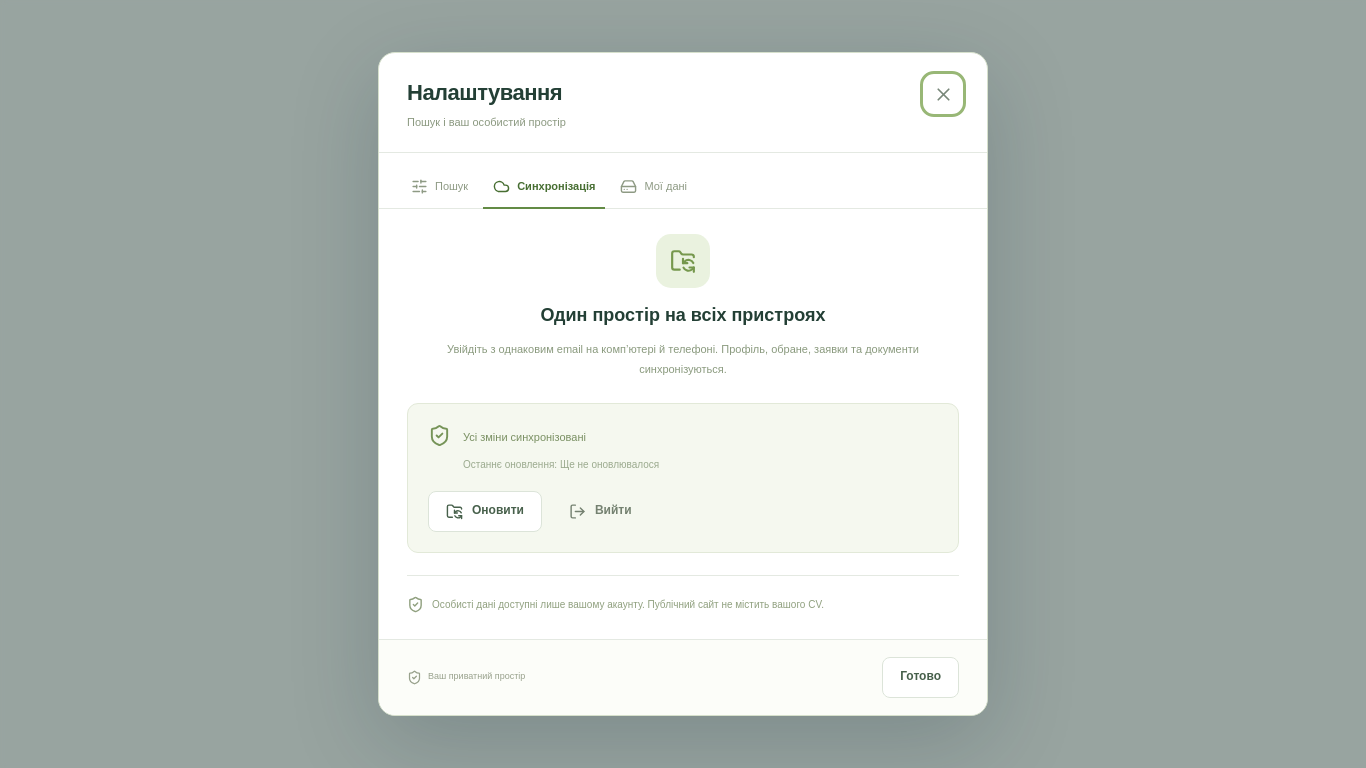
Test: sign-out and the local copy › asks again when the stored copy turns out to be unsynced
Click the button "Вийти". click: point(600, 511)
box: [551,491,650,532]
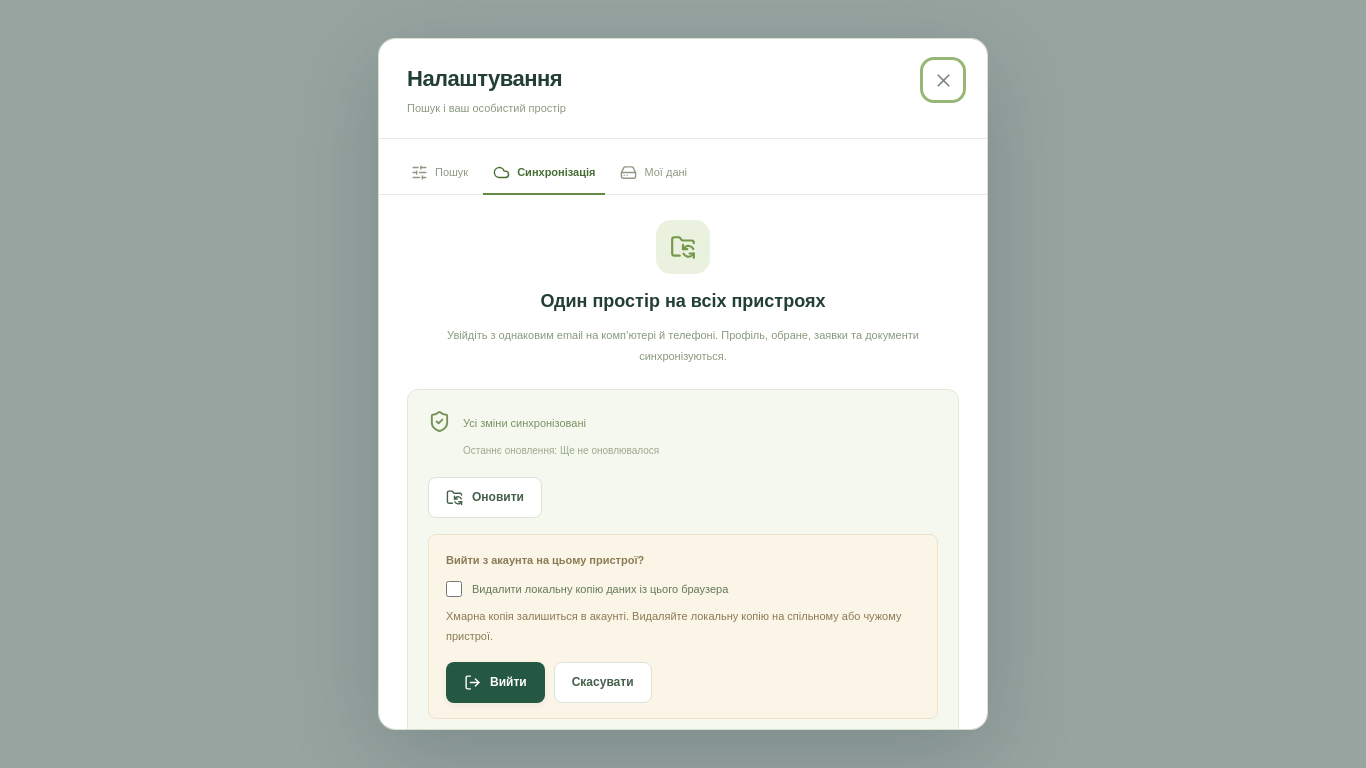
Click the checkbox labelled "Видалити локальну копію даних із цього браузера". click: point(454, 589)
box: [446,581,462,597]
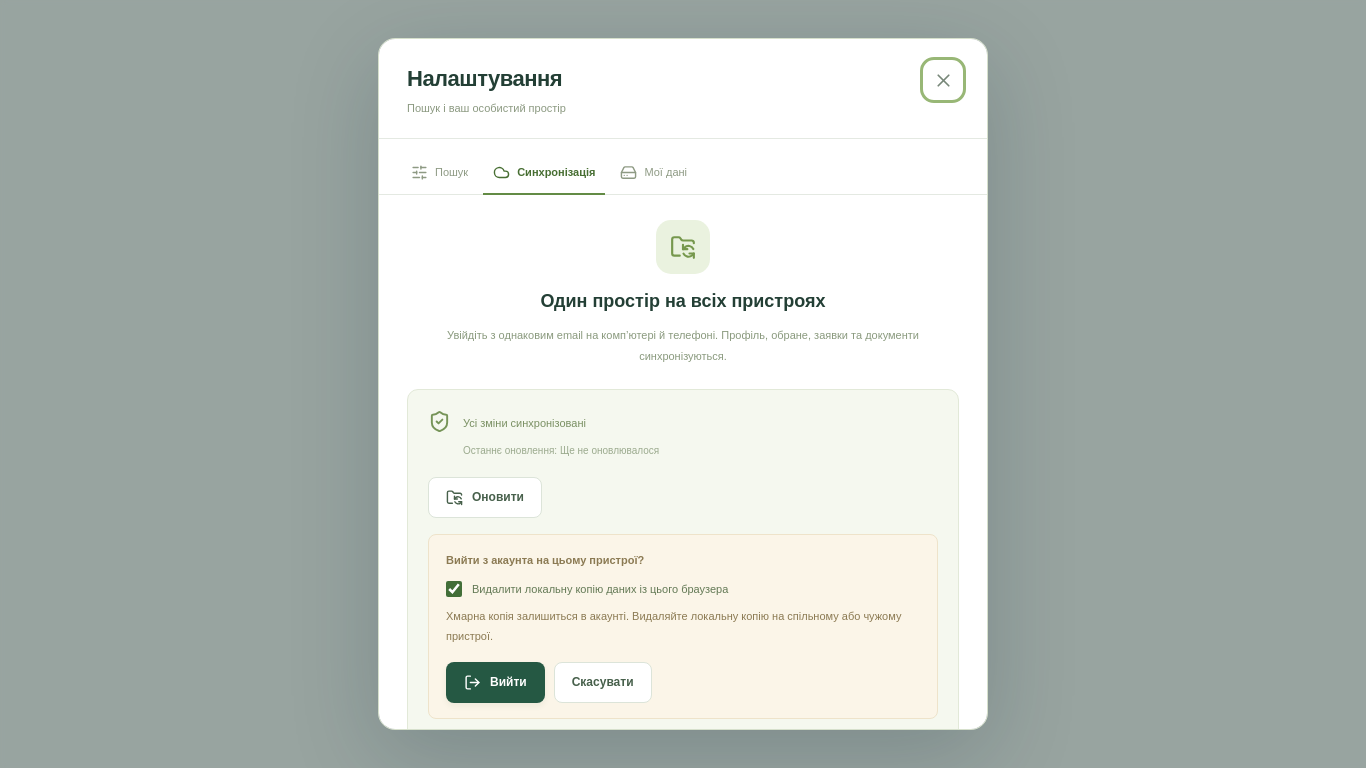
Click the button "Вийти". click: point(495, 683)
box: [446,662,545,703]
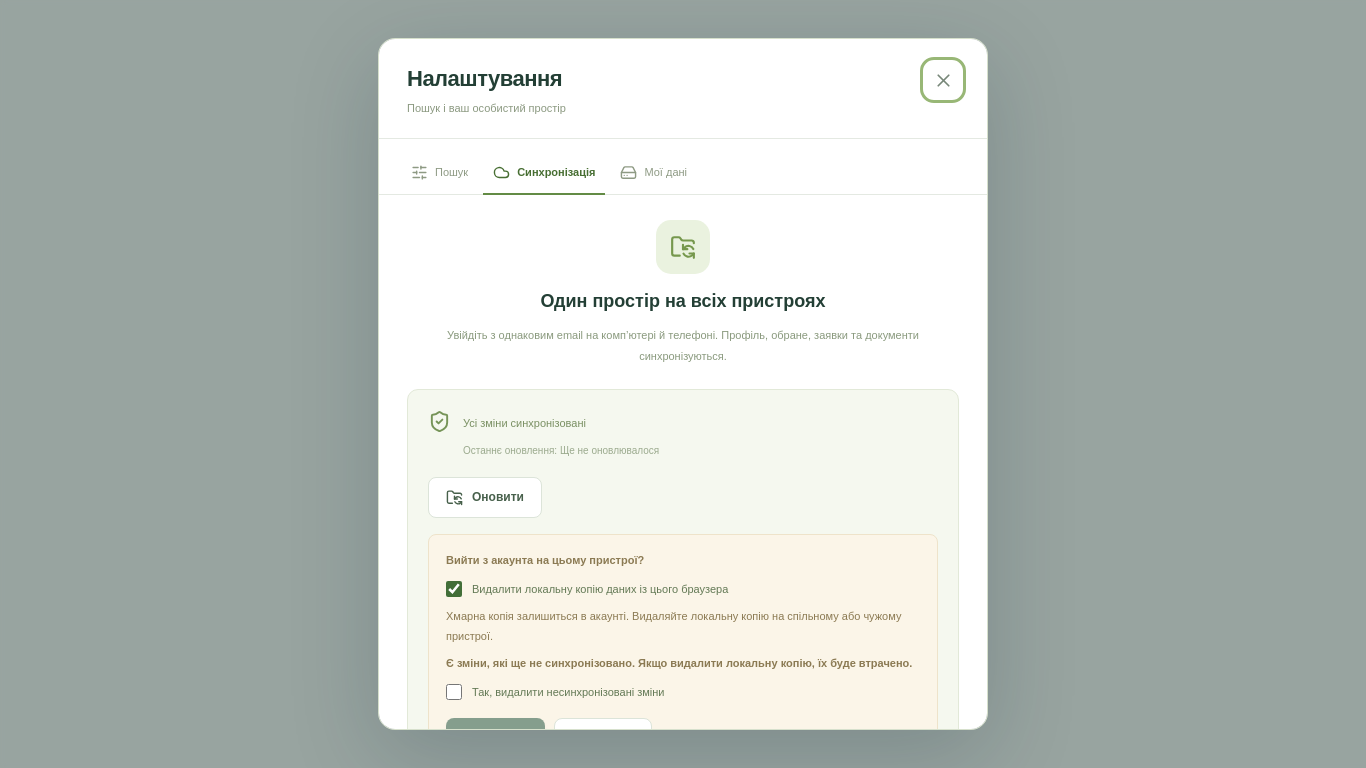
expect the checkbox labelled "Так, видалити несинхронізовані зміни" is not checked: met, box [446,684,462,700]
